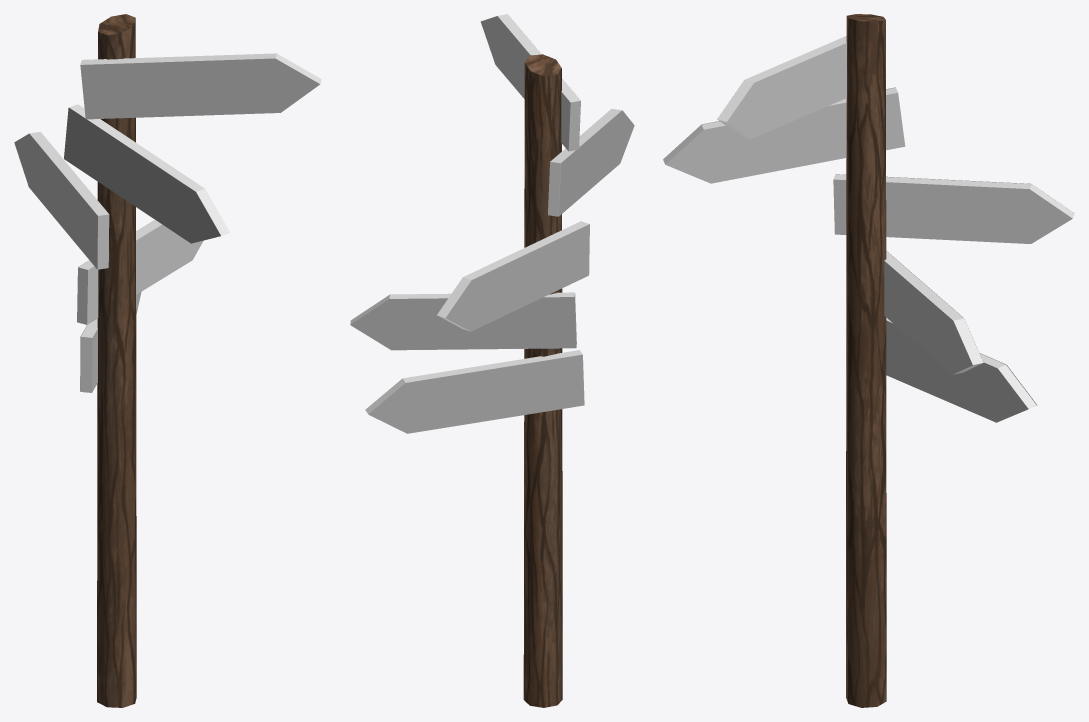
Rendered from 01_Signpost.fbx.
The picture shows the model from 3 angles, left to right: view 1: azimuth 30°, elevation 25°; view 2: azimuth 150°, elevation 25°; view 3: azimuth 270°, elevation 25°; orthographic projection. The views are drawn at different scales.
Visible parts, largest first — view 1: Pole.001, WoodchoppingSing, LakeSign, OuthouseSign, GreenhouseSign, ShedSign; view 2: Pole.001, ShedSign, GreenhouseSign, OuthouseSign, LakeSign, WoodchoppingSing; view 3: Pole.001, OuthouseSign, LakeSign, WoodchoppingSing, ShedSign, GreenhouseSign.
Boxes of the visible parts, x1,y1,x2,y2 form: Pole.001: [97, 14, 136, 707]; WoodchoppingSing: [80, 53, 321, 119]; LakeSign: [64, 104, 230, 243]; OuthouseSign: [14, 131, 109, 269]; GreenhouseSign: [77, 220, 203, 324]; ShedSign: [80, 292, 141, 392]; Pole.001: [523, 54, 562, 707]; ShedSign: [365, 350, 584, 433]; GreenhouseSign: [350, 292, 576, 350]; OuthouseSign: [437, 221, 589, 331]; LakeSign: [548, 108, 634, 216]; WoodchoppingSing: [480, 14, 580, 151]; Pole.001: [846, 14, 886, 707]; OuthouseSign: [833, 174, 1074, 243]; LakeSign: [663, 87, 905, 183]; WoodchoppingSing: [717, 36, 846, 139]; ShedSign: [886, 317, 1037, 422]; GreenhouseSign: [884, 251, 983, 374].
Size of the model in its own units: 74.03 by 250 by 136.
